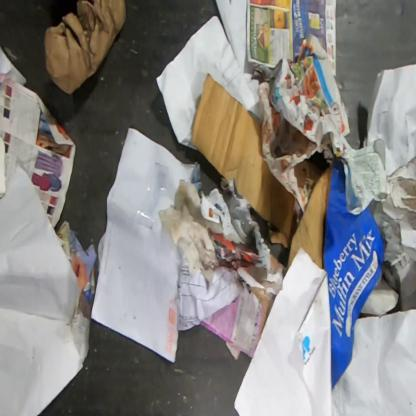cardboard: (287, 155, 386, 391), (192, 74, 296, 242)
